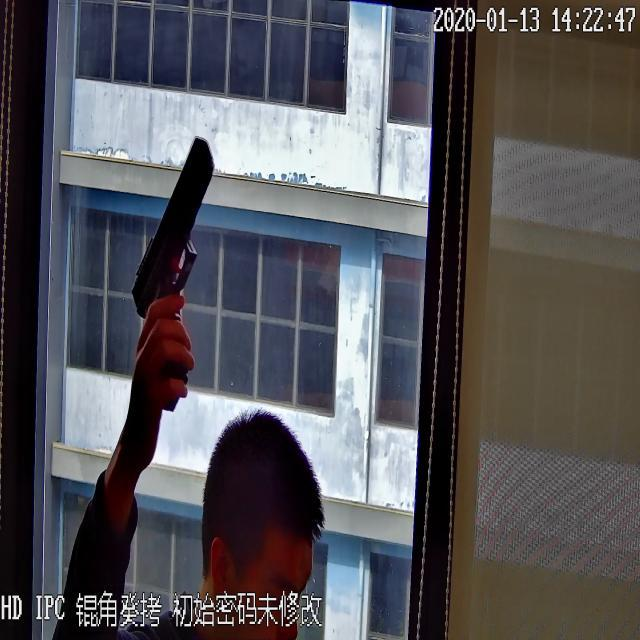gun-knife-thesis - v11 Yolov5 augmented: (118, 133, 215, 427)
